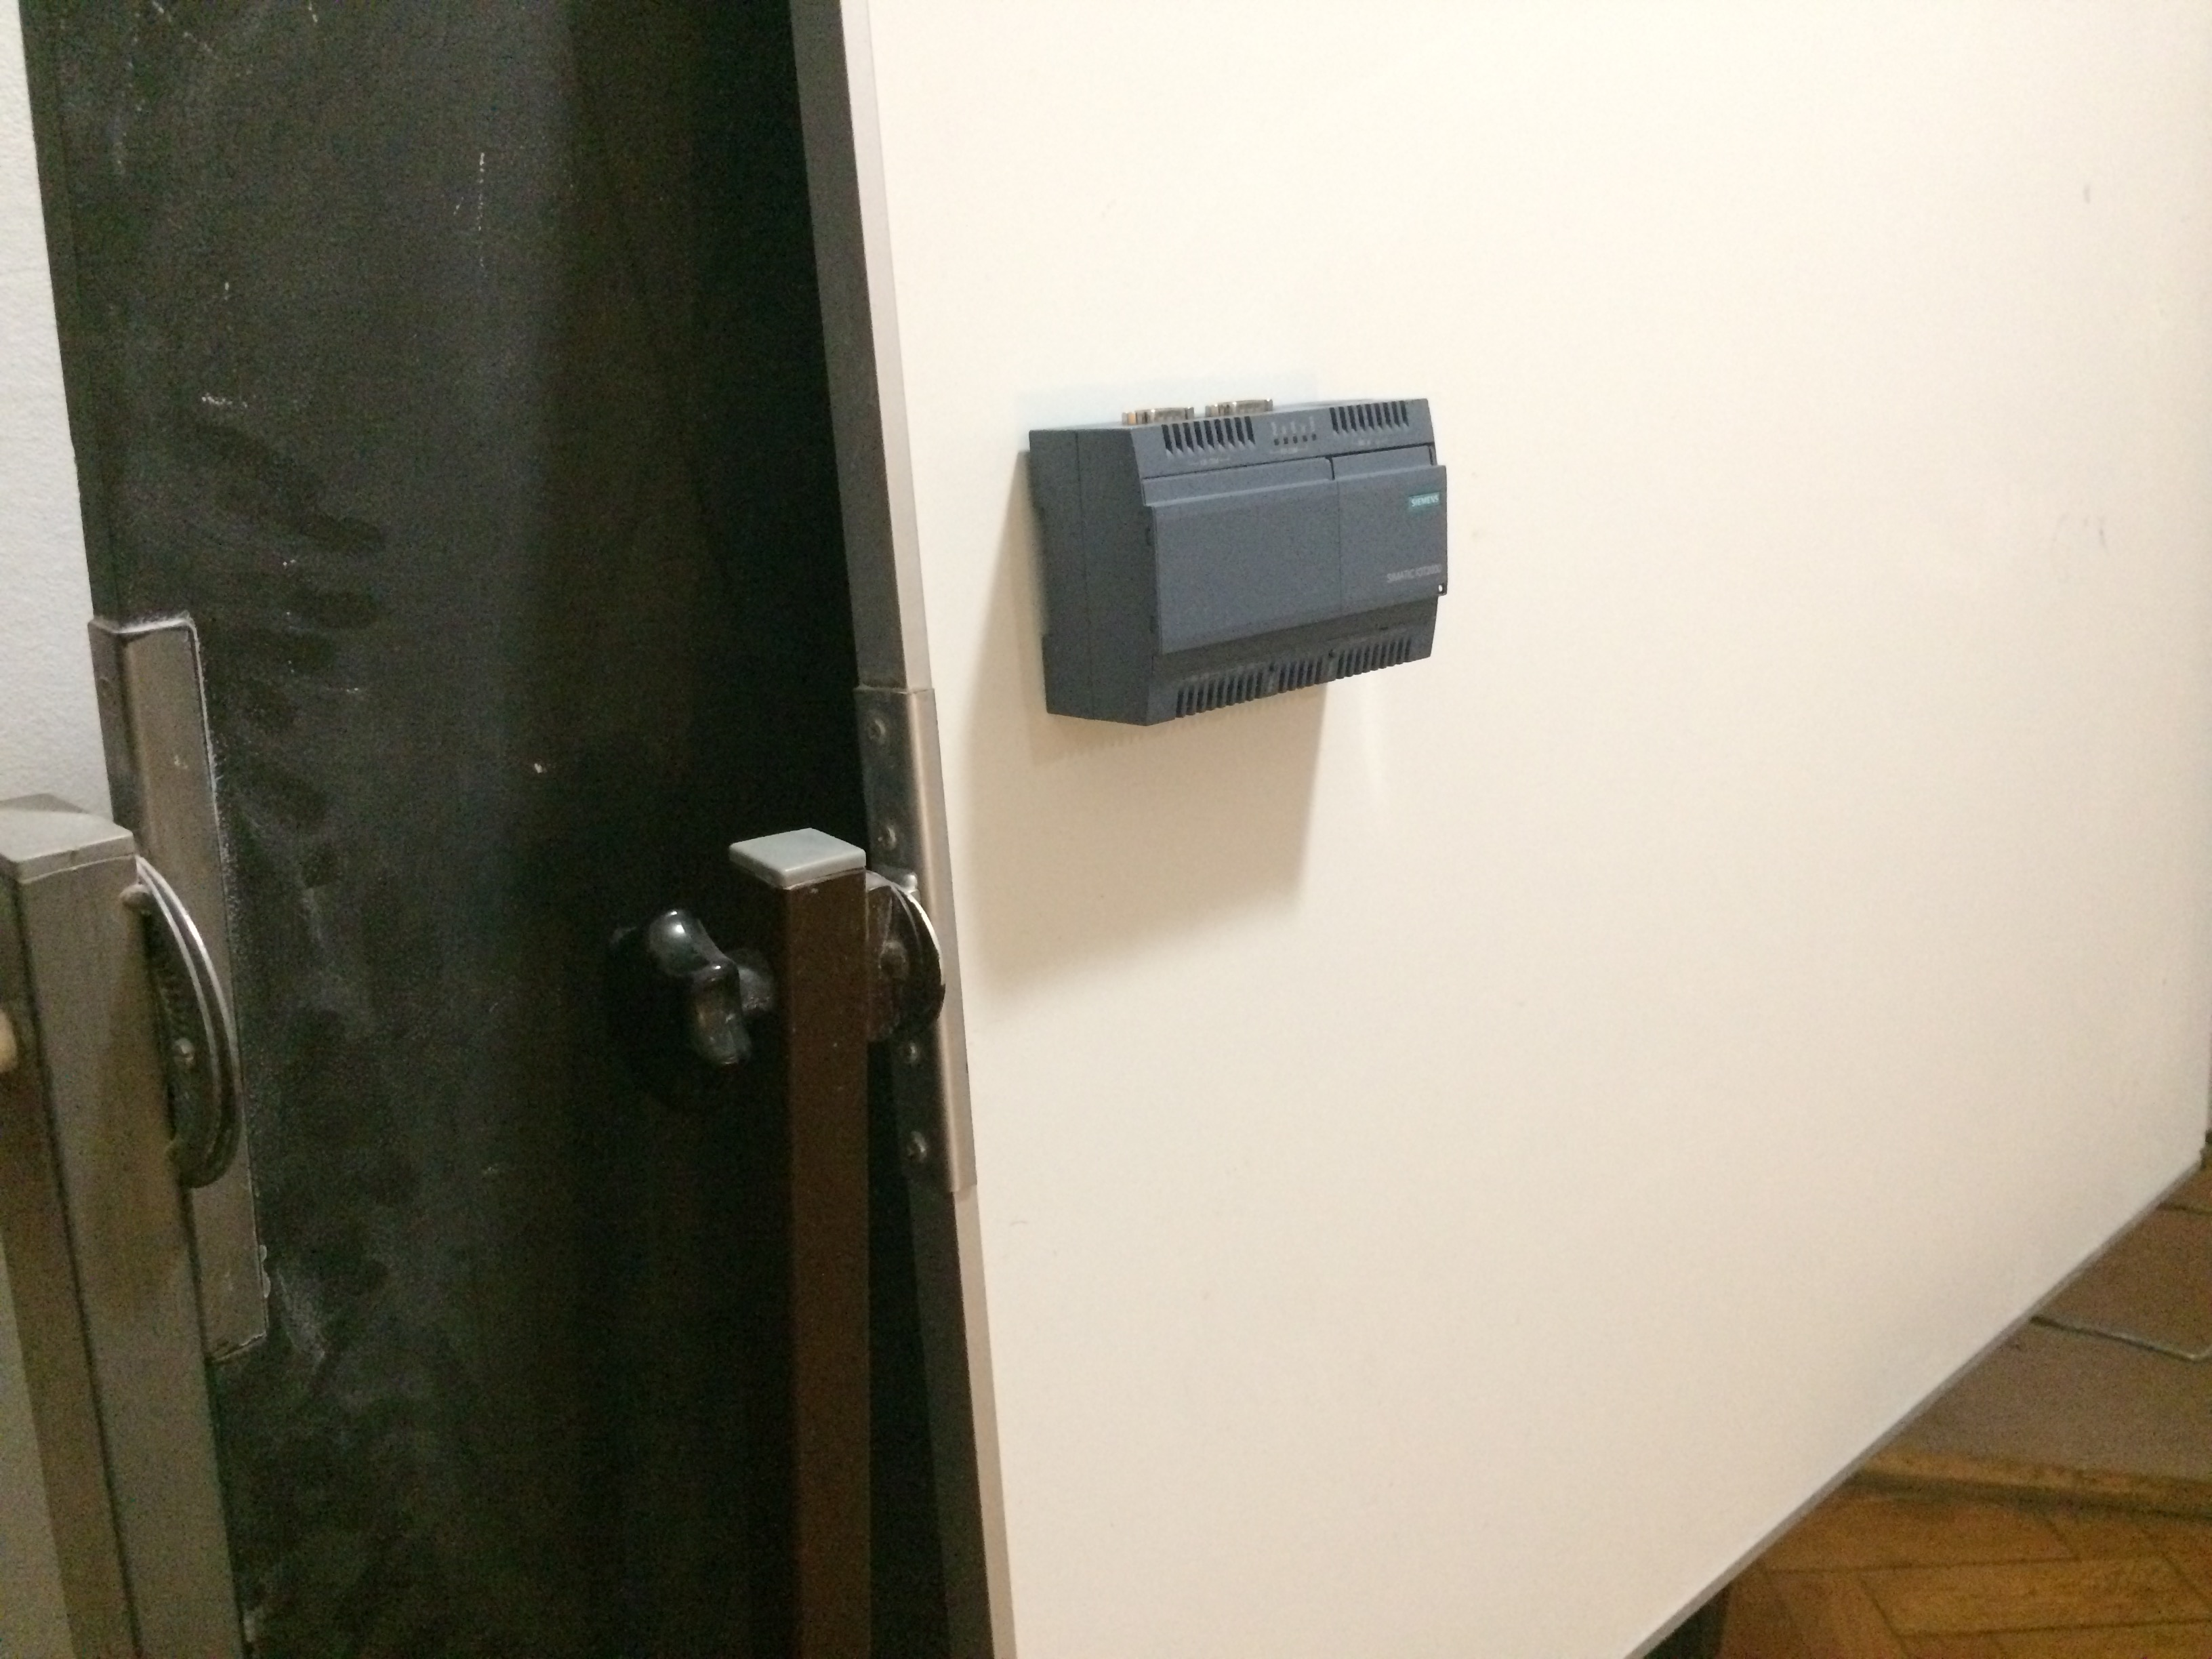iot2000: (1026, 394, 1453, 730)
